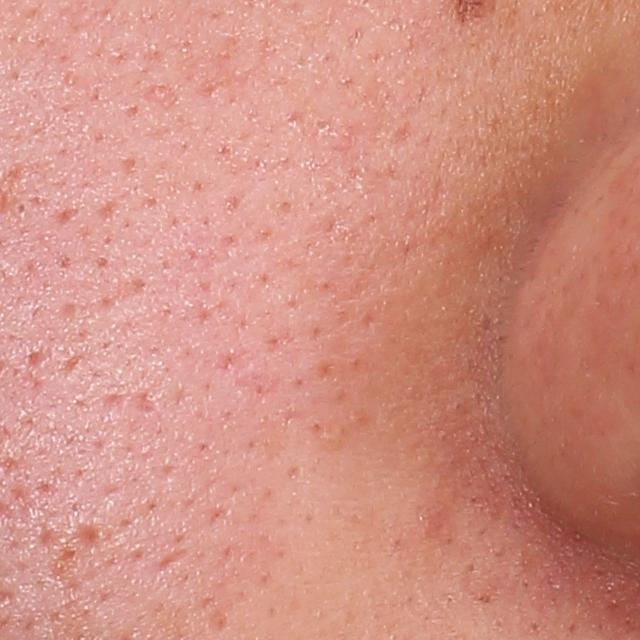atrophic_scar: (67, 519, 106, 554), (136, 389, 159, 421)
comedo: (9, 198, 32, 222)
